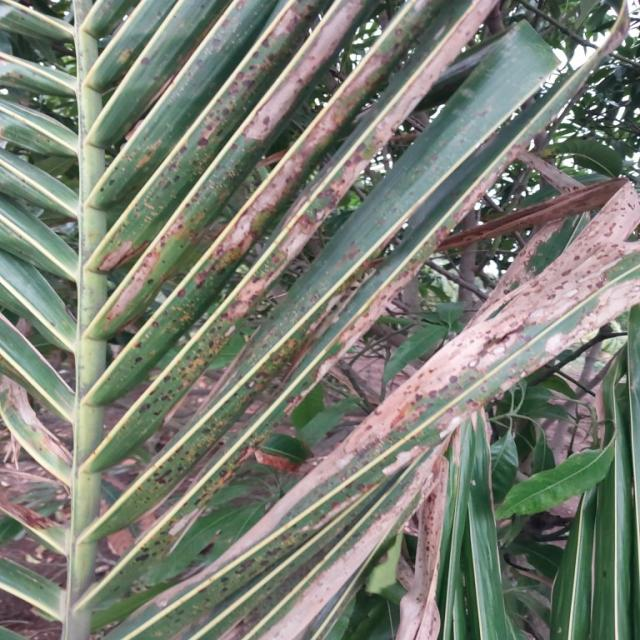gray leaf spot: (120, 185, 637, 640), (178, 19, 610, 502), (89, 0, 502, 453)
